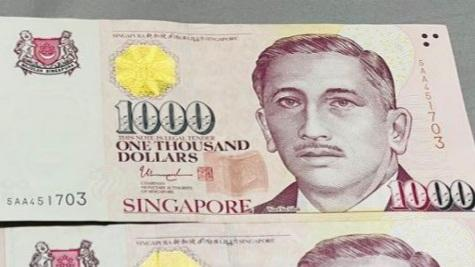1000SingaporeDollar: (0, 26, 475, 217)
